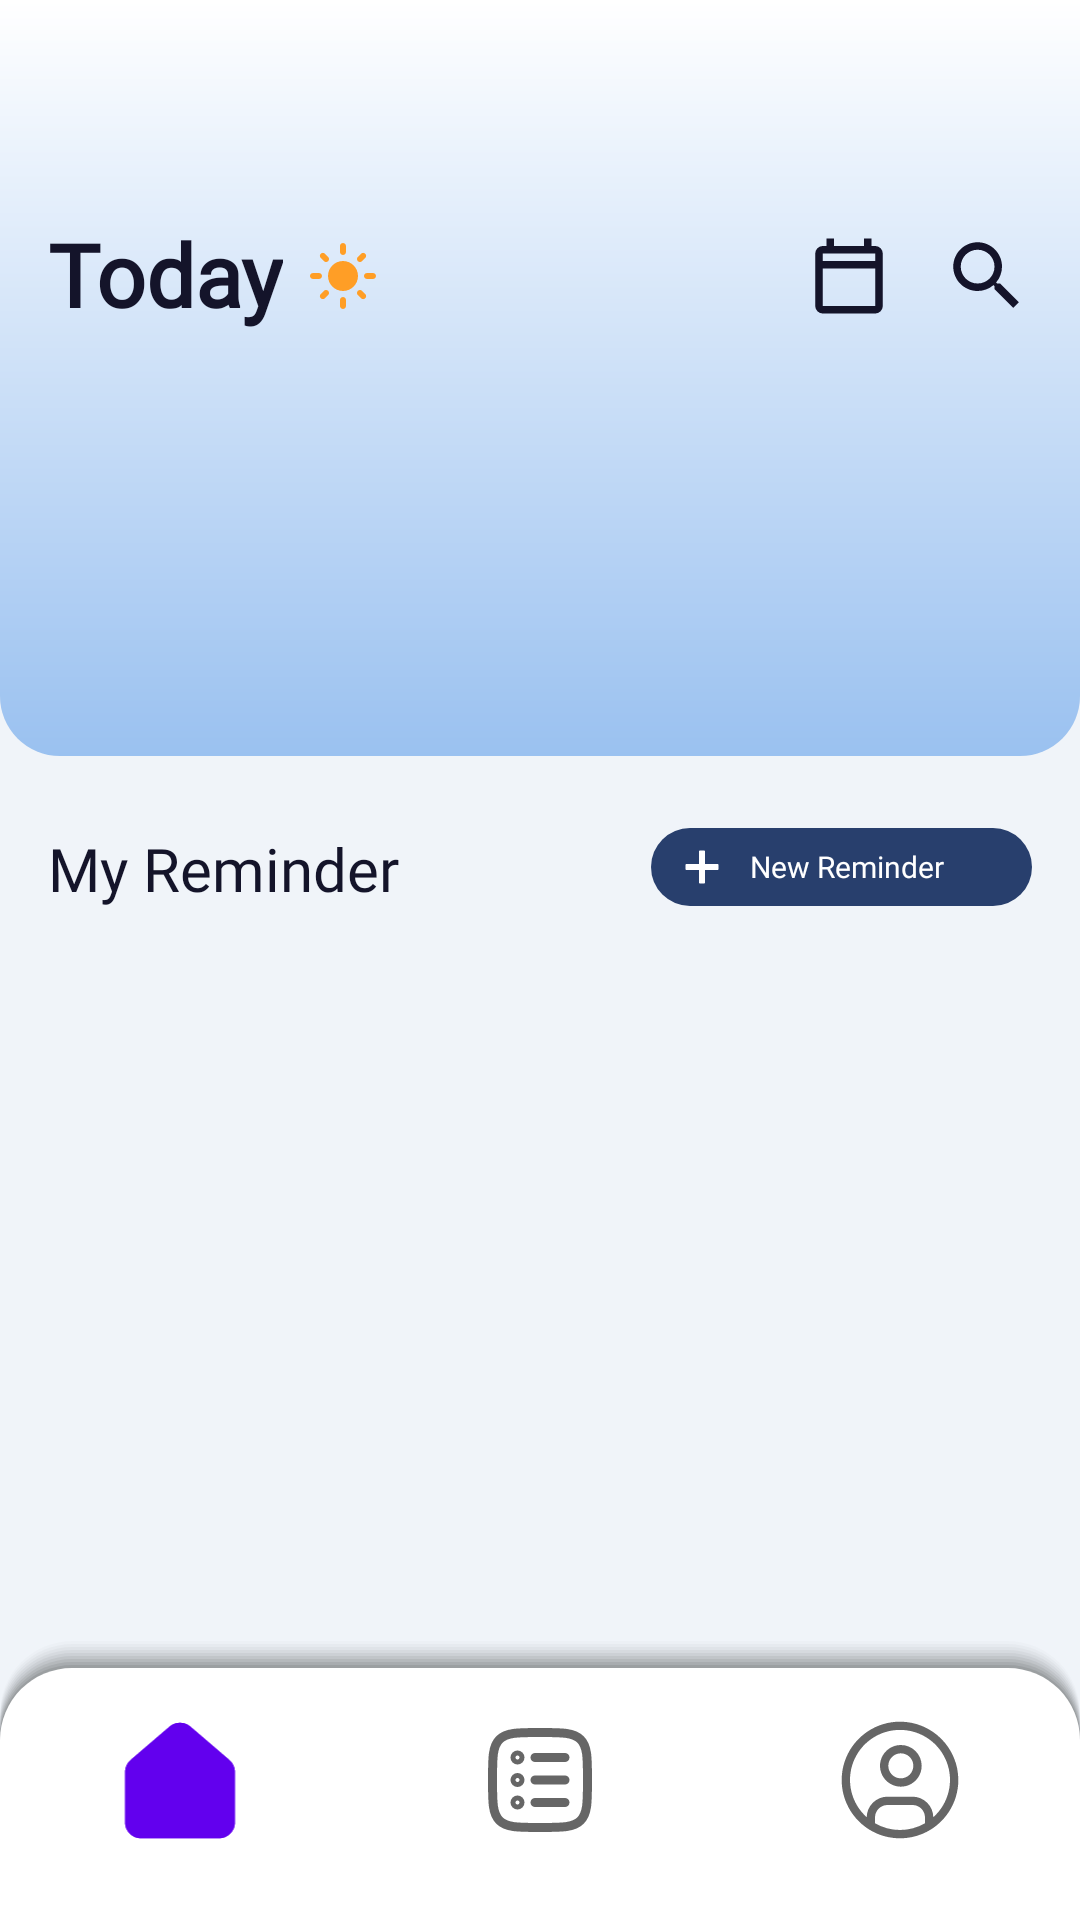

Where icons sit on this 1080w x 1920h app screen, as (x1, y1, x2, y2):
Calendar: (815, 238, 883, 314)
Search: (953, 242, 1019, 308)
